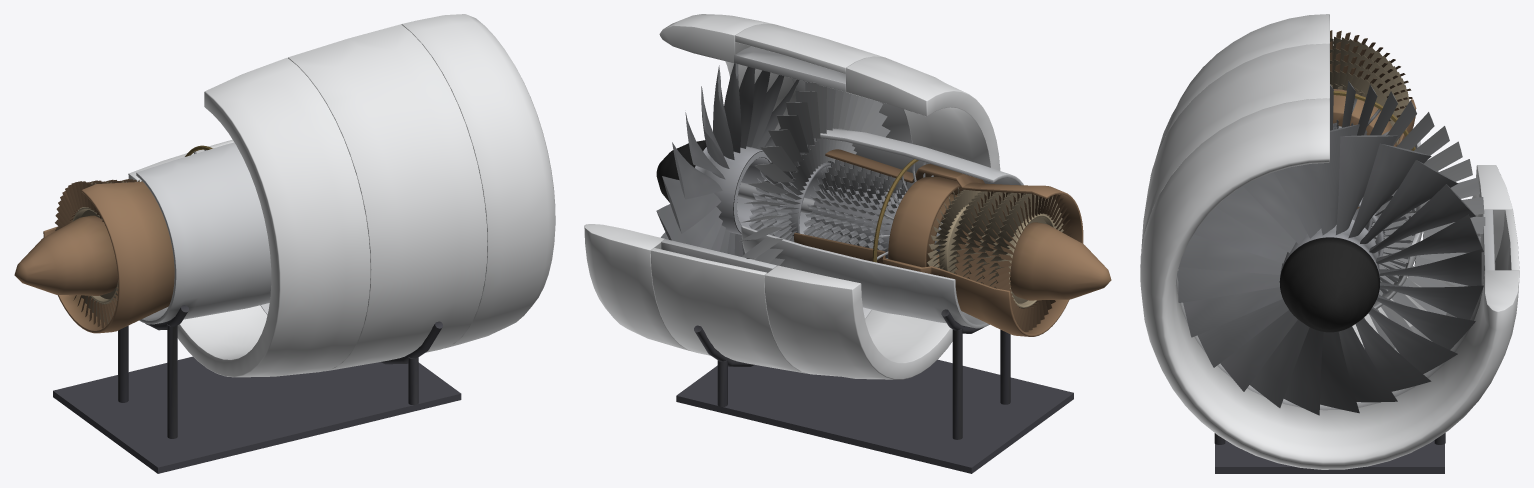
3 renders of one model, left to right at view 1: azimuth 30°, elevation 25°; view 2: azimuth 150°, elevation 25°; view 3: azimuth 270°, elevation 25°, orthographic. The views are drawn at different scales.
Visible parts, largest first — view 1: fan_cowl_right, thrust_reverser, stand, nacelle_inlet, core_cowl, core_case, exhaust, lp_turbine; view 2: stand, thrust_reverser, fan~ti, core_cowl, core_case, fan_case, fan_cowl_left, nacelle_inlet, exhaust, lp_turbine, combustor, hp_compressor (+5 smaller); view 3: fan~ti, nacelle_inlet, fan_cowl_right, fan_case, fan, thrust_reverser, stand, lp_turbine, core_case, core_cowl, fan_cowl_left, combustor (+1 smaller).
Boxes of the visible parts, x1=… form: fan_cowl_right: x1=288, y1=24, x2=487, y2=371; thrust_reverser: x1=128, y1=57, x2=370, y2=377; stand: x1=53, y1=305, x2=461, y2=473; nacelle_inlet: x1=401, y1=14, x2=555, y2=348; core_cowl: x1=136, y1=142, x2=271, y2=324; core_case: x1=43, y1=179, x2=174, y2=333; exhaust: x1=14, y1=215, x2=117, y2=295; lp_turbine: x1=72, y1=180, x2=142, y2=323; stand: x1=676, y1=309, x2=1073, y2=473; thrust_reverser: x1=764, y1=56, x2=1000, y2=379; fan~ti: x1=656, y1=63, x2=799, y2=256; core_cowl: x1=741, y1=128, x2=1023, y2=328; core_case: x1=794, y1=149, x2=1083, y2=336; fan_case: x1=661, y1=46, x2=912, y2=318; fan_cowl_left: x1=650, y1=248, x2=808, y2=373; nacelle_inlet: x1=584, y1=14, x2=796, y2=351; exhaust: x1=1010, y1=222, x2=1111, y2=300; lp_turbine: x1=948, y1=191, x2=1063, y2=308; combustor: x1=888, y1=177, x2=962, y2=268; hp_compressor: x1=803, y1=159, x2=906, y2=257; fan~ti: x1=1177, y1=124, x2=1483, y2=415; nacelle_inlet: x1=1140, y1=98, x2=1519, y2=469; fan_cowl_right: x1=1140, y1=43, x2=1329, y2=267; fan_case: x1=1176, y1=81, x2=1495, y2=410; fan: x1=1279, y1=237, x2=1380, y2=332; thrust_reverser: x1=1150, y1=14, x2=1512, y2=344; stand: x1=1214, y1=433, x2=1445, y2=473; lp_turbine: x1=1330, y1=36, x2=1409, y2=145; core_case: x1=1330, y1=30, x2=1416, y2=145; core_cowl: x1=1367, y1=141, x2=1422, y2=314; fan_cowl_left: x1=1495, y1=209, x2=1519, y2=270; combustor: x1=1333, y1=89, x2=1396, y2=208.
Size of the model in its own units: 3.06 by 2.14 by 1.98.
